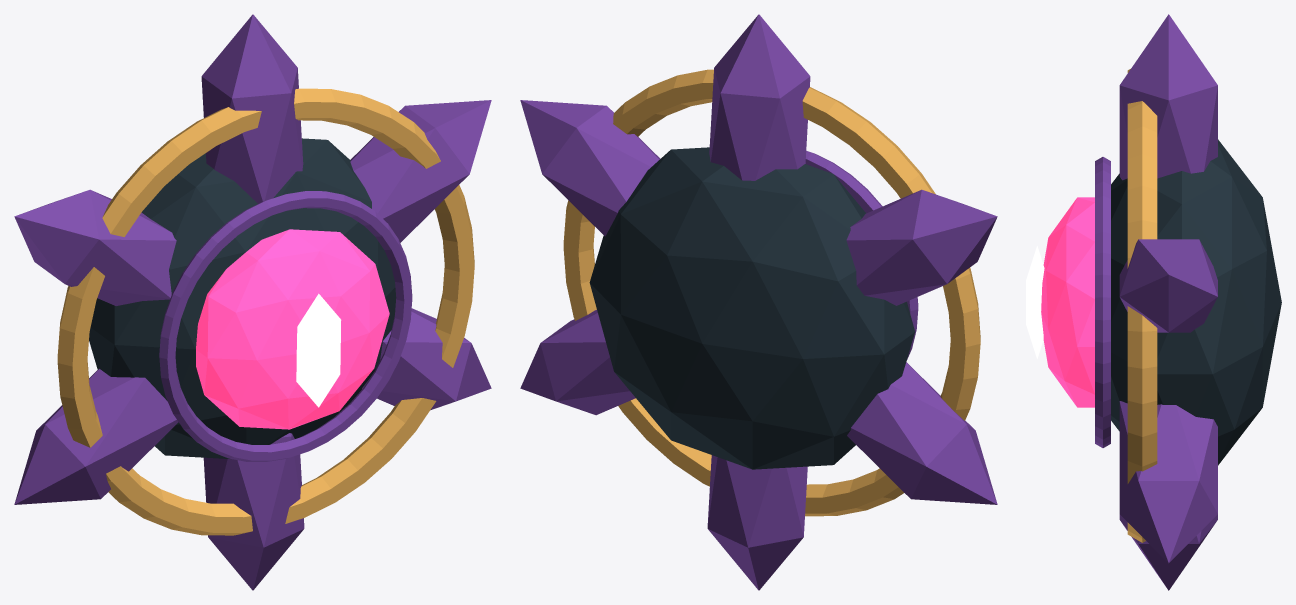
Rendered from core.glb.
3 renders of one model, left to right at view 1: azimuth 30°, elevation 25°; view 2: azimuth 150°, elevation 25°; view 3: azimuth 270°, elevation 25°, orthographic.
Visible parts, largest first — view 1: Crown, Core.001, Housing.001, Inner orbit, Petal00, Petal04, Petal05, Petal01, Petal03, Petal02, Eye; view 2: Housing.001, Crown, Petal00, Petal04, Petal05, Petal01, Petal03, Petal02, Inner orbit; view 3: Housing.001, Petal02, Petal00, Crown, Core.001, Petal01, Inner orbit, Petal03, Eye.
Part boxes in pixels (x1,y1,x2,y2): Crown: [57, 88, 474, 535]; Core.001: [196, 229, 389, 429]; Housing.001: [89, 138, 396, 458]; Inner orbit: [159, 191, 412, 461]; Petal00: [201, 14, 303, 203]; Petal04: [14, 369, 178, 504]; Petal05: [14, 189, 176, 305]; Petal01: [350, 100, 491, 242]; Petal03: [203, 433, 304, 590]; Petal02: [362, 308, 491, 410]; Eye: [296, 293, 341, 407]; Housing.001: [589, 147, 914, 469]; Crown: [563, 69, 980, 516]; Petal00: [709, 14, 810, 180]; Petal04: [847, 362, 997, 504]; Petal05: [846, 189, 997, 305]; Petal01: [520, 100, 660, 236]; Petal03: [707, 455, 807, 590]; Petal02: [520, 309, 635, 415]; Inner orbit: [805, 151, 918, 359]; Housing.001: [1111, 139, 1281, 465]; Petal02: [1119, 401, 1217, 562]; Petal00: [1119, 14, 1217, 180]; Crown: [1127, 69, 1157, 542]; Core.001: [1041, 197, 1094, 407]; Petal01: [1119, 239, 1217, 332]; Inner orbit: [1095, 157, 1110, 447]; Petal03: [1119, 514, 1217, 590]; Eye: [1026, 246, 1044, 358].
Bounding box in the file's own units: 2.1 × 2.42 × 0.9725.
